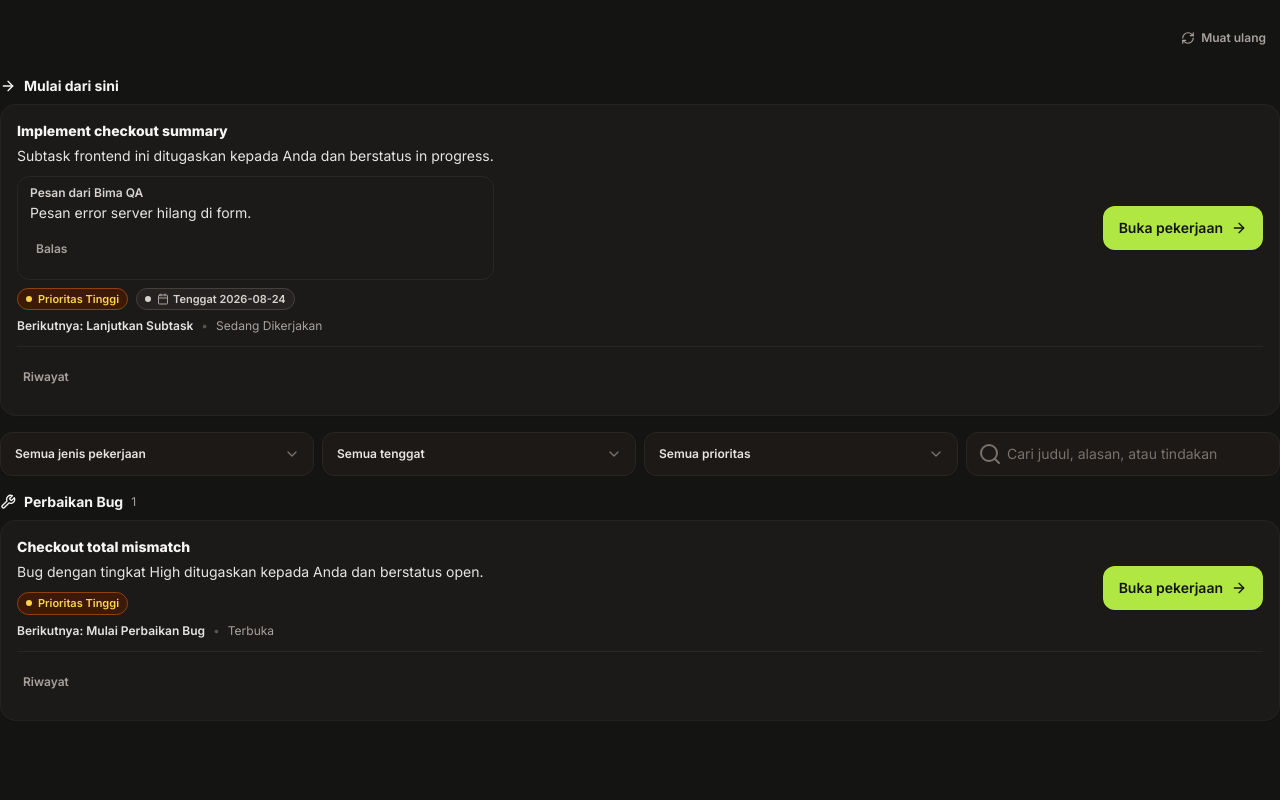
Test: RoleAwareWorkQueuePanel handoff message (AC-4.2, AC-4.4) › sends a reply inline and closes the box after it succeeds
Click the button "Balas" at coordinates (52, 249), box [22,227,81,271]
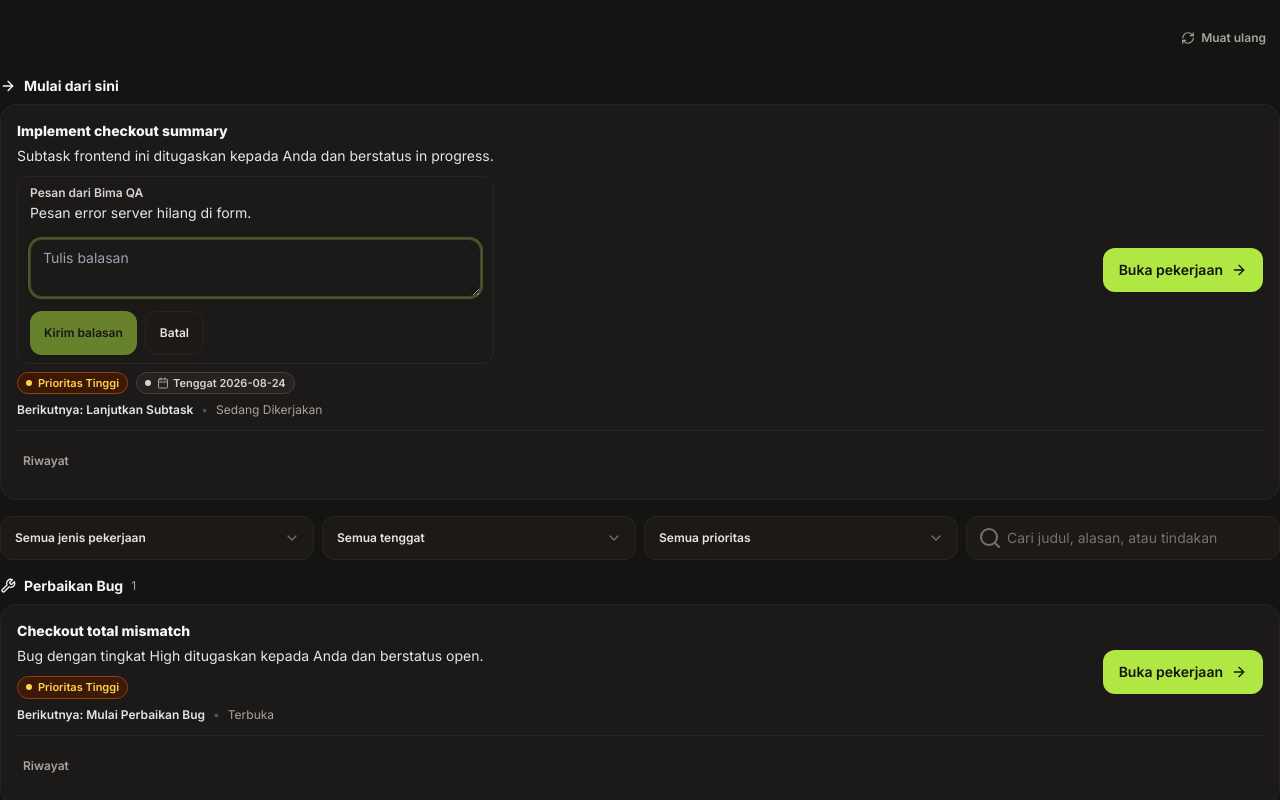
Result: the button "Kirim balasan" is disabled at [30,311,137,355]
Type "Sudah diperbaiki di commit a1b2c3d." into the text box with placeholder "Tulis balasan" at coordinates (255, 268), box [30,239,481,297]
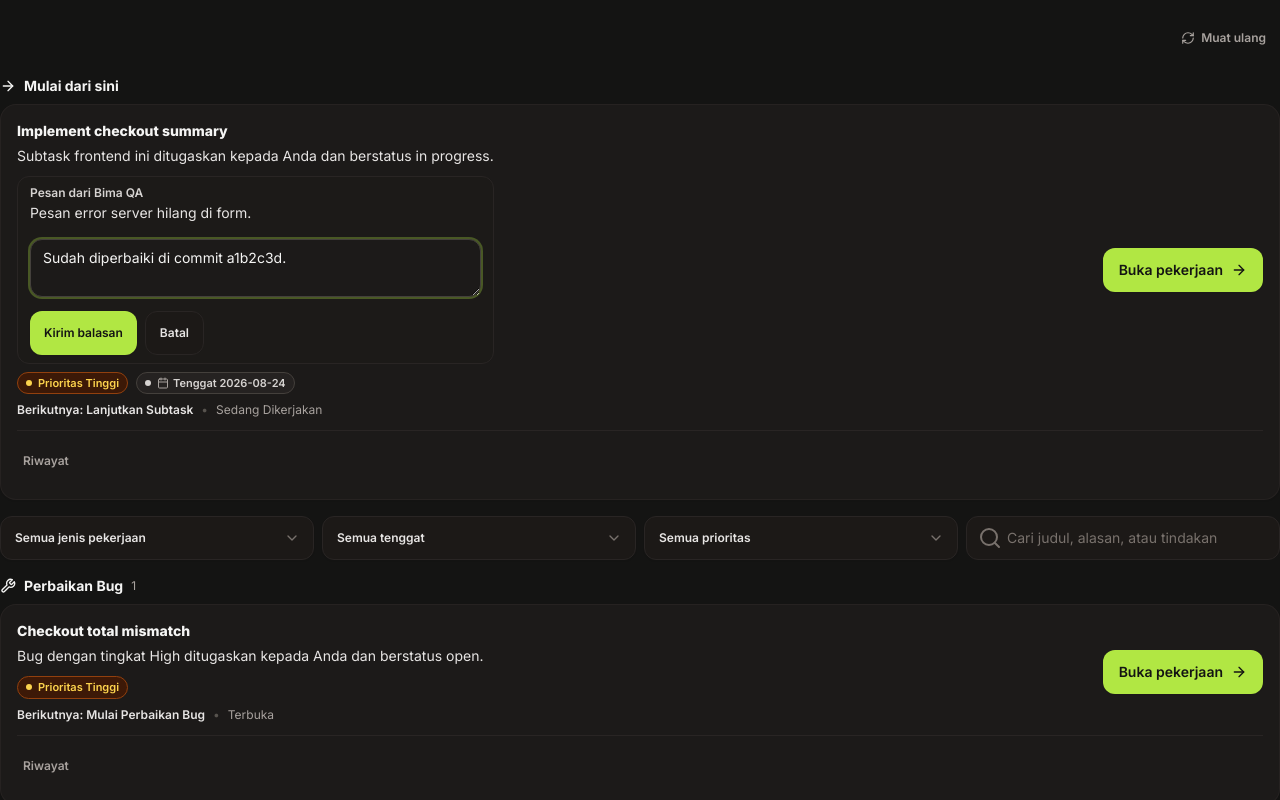
Click the button "Kirim balasan" at coordinates (83, 333), box [30,311,137,355]
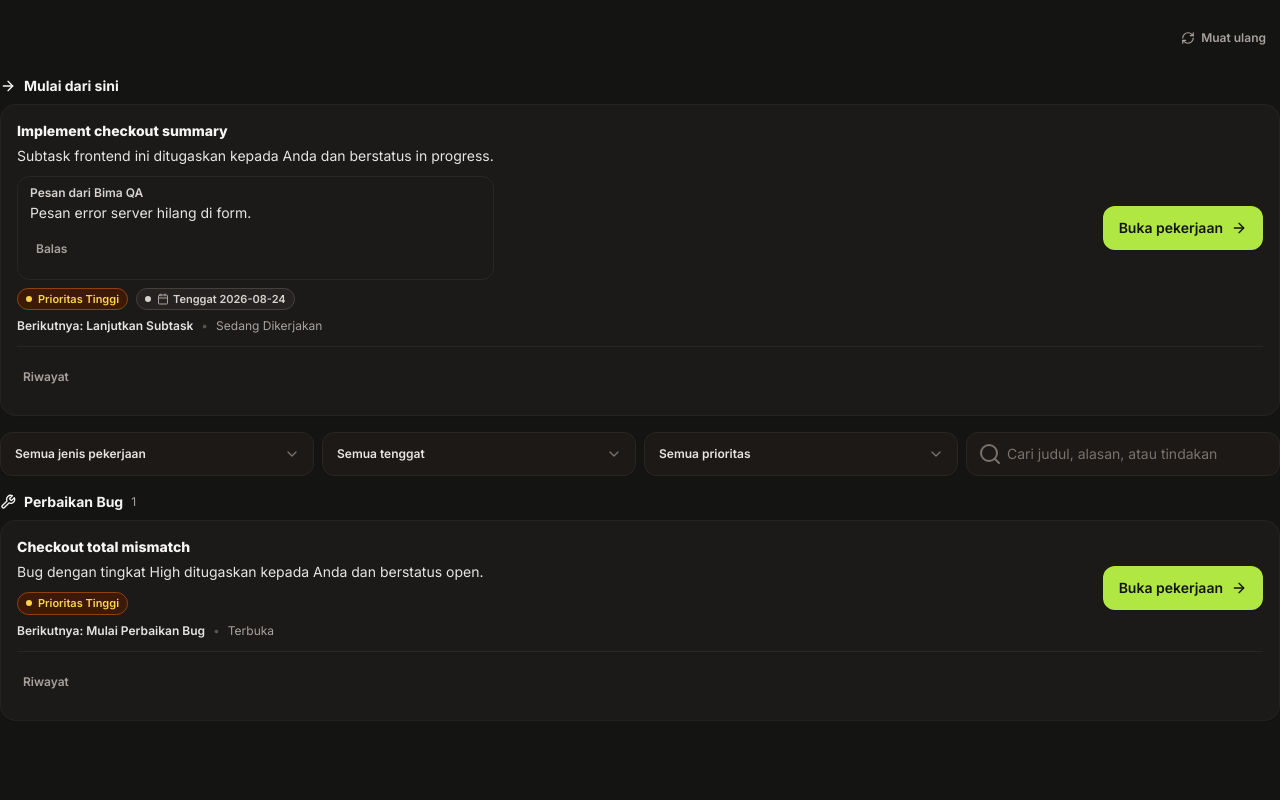
Result: the button "Kirim balasan" is gone
